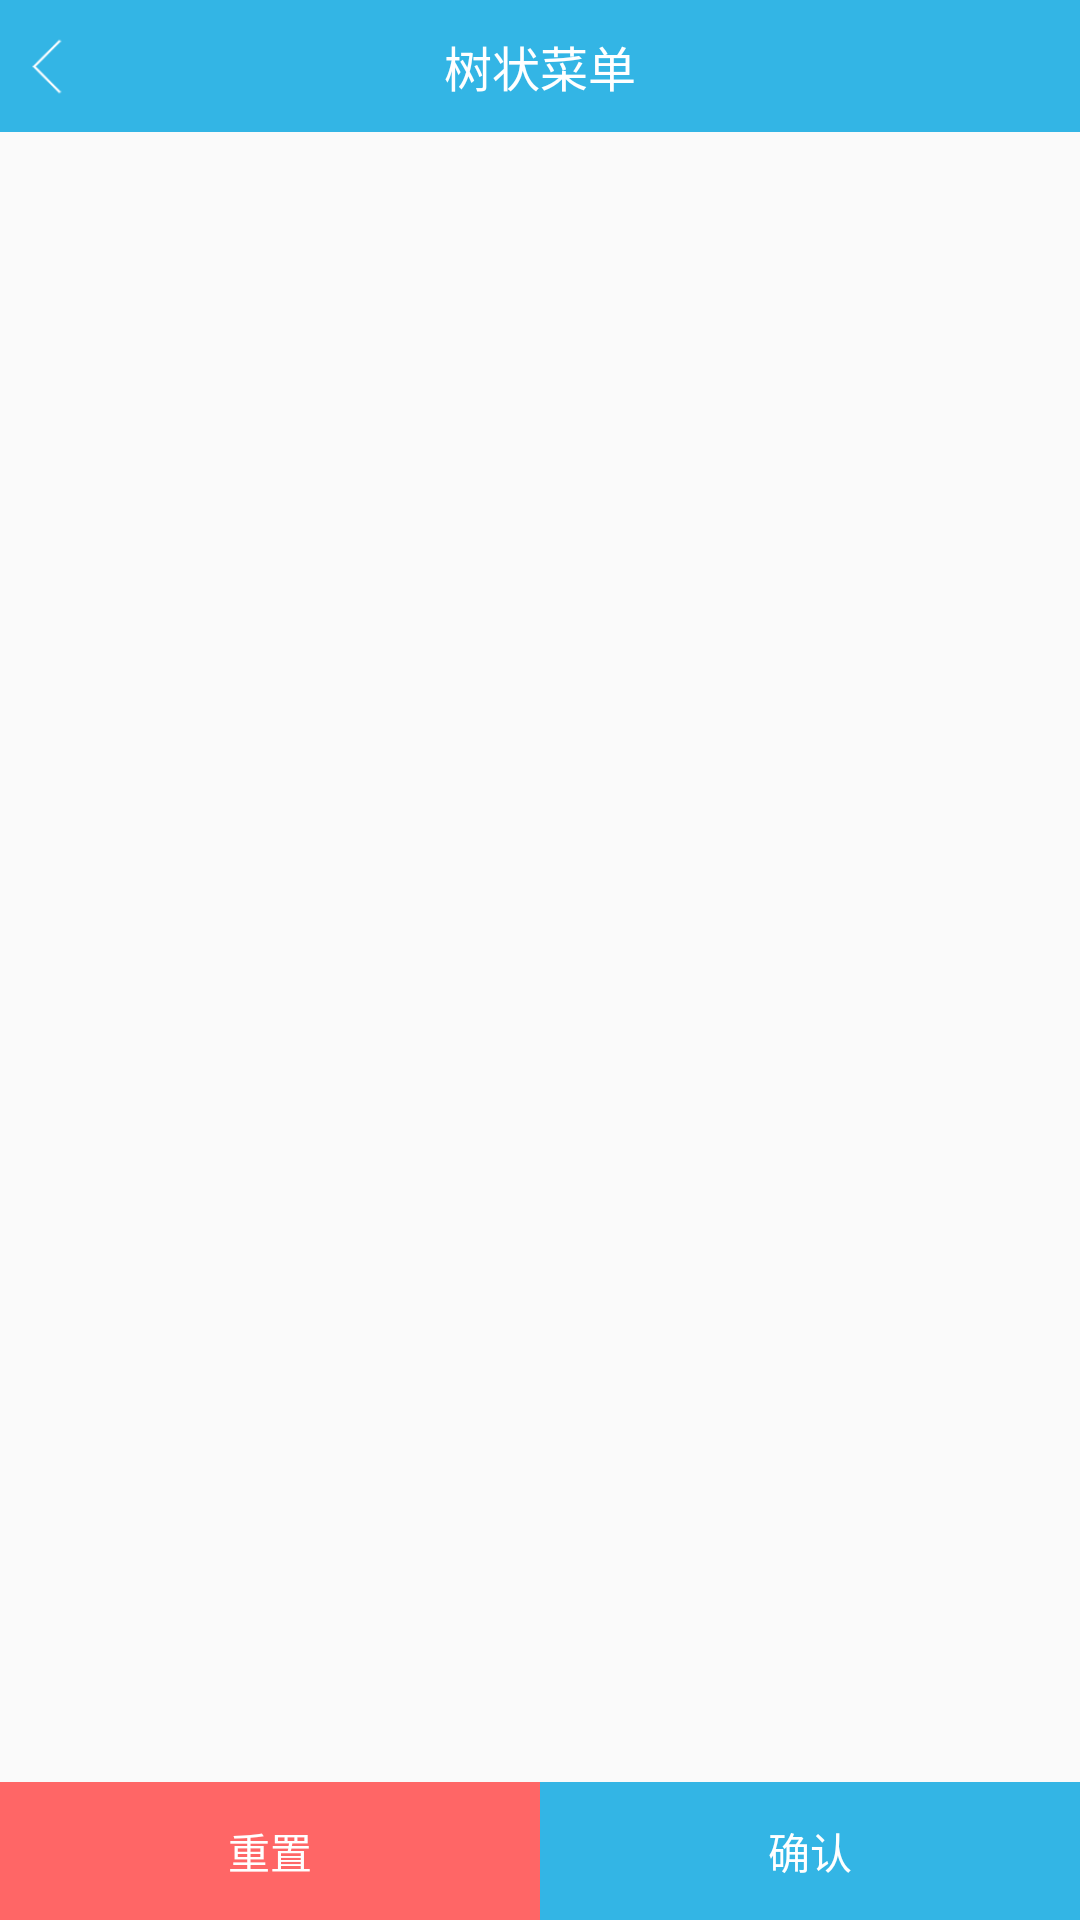

Icon click points for this 1080*1920 phone screenshot, format (x,y):
back: (47,66)
